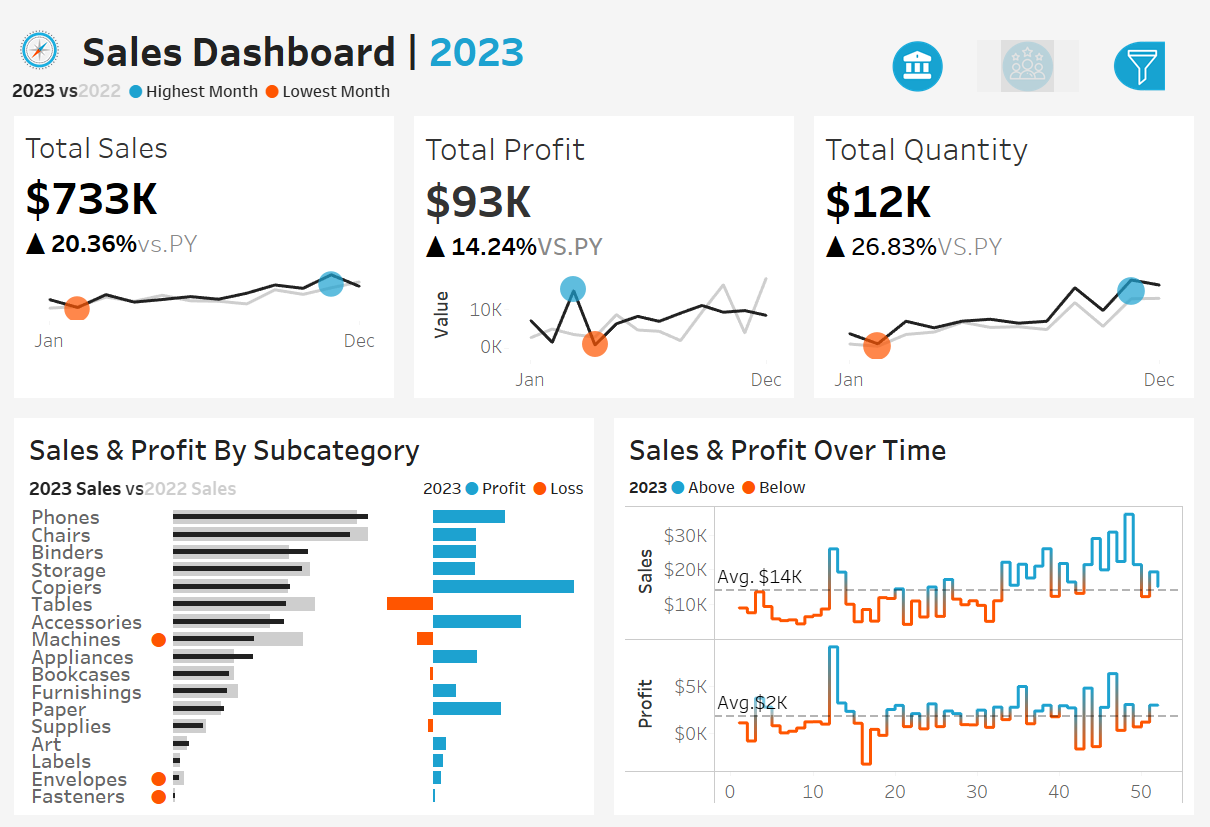

The page's visual inventory and layout, read from the dashboard file:
{"tool":"tableau","page":{"name":"Sales Dashboard","canvas":[1200,800],"ordinal":0},"visuals":[{"type":"image","param":"Image/Icon - Logo.png","box":[0,0,70,49]},{"type":"text","box":[70,0,723,49]},{"type":"text","box":[877,4,318,196]},{"type":"dashboard-object","box":[858,11,111,60]},{"type":"dashboard-object","box":[969,11,110,60]},{"type":"dashboard-object","box":[1079,11,110,60]},{"type":"worksheet","title":"Legend KPI","mark":"Automatic","box":[0,49,1200,32]},{"type":"worksheet","title":"KPI Sales","mark":"Automatic","rows":["Calculation_881861128941785092"],"cols":["Order Date"],"box":[0,81,400,302]},{"type":"worksheet","title":"KPI Total Profit","mark":"Automatic","rows":["Min/Max Quantity (copy)_881861129129865237"],"cols":["Order Date"],"box":[400,81,400,302]},{"type":"worksheet","title":"KPI Total Quantity","mark":"Automatic","rows":["Min/Max Sales (copy)_881861129114382347"],"cols":["Order Date"],"box":[800,81,400,302]},{"type":"parameter","param":"[Parameters].[Parameter 1]","box":[877,200,318,60]},{"type":"blank","box":[877,260,318,32]},{"type":"text","box":[877,292,318,33]},{"type":"filter","title":"KPI Sales","param":"[federated.0d5tz0m07tn7vk140b9pl1s5l0tu].[none:Category:nk]","box":[877,325,318,70]},{"type":"filter","title":"KPI Sales","param":"[federated.0d5tz0m07tn7vk140b9pl1s5l0tu].[none:Sub-Category:nk]","box":[877,395,318,70]},{"type":"text","box":[17,400,566,47]},{"type":"text","box":[617,400,566,47]},{"type":"worksheet","title":"Legend Subcategory","mark":"Automatic","box":[17,447,394,32]},{"type":"text","box":[411,447,172,32]},{"type":"text","box":[617,447,566,30]},{"type":"text","box":[877,465,318,33]},{"type":"worksheet","title":"Weekly Trends","mark":"Automatic","rows":["Calculation_881861128931147776","CY Quantity (copy)_881861129129340946"],"cols":["Order Date"],"box":[617,477,566,306]},{"type":"worksheet","title":"SubCategory Comparison","mark":"Bar","rows":["Sub-Category","Calculation_881861129156116506"],"cols":["CY Sales (copy)_881861128932089857","Calculation_881861128931147776","CY Quantity (copy)_881861129129340946"],"box":[17,479,566,304]},{"type":"filter","title":"KPI Sales","param":"[federated.0d5tz0m07tn7vk140b9pl1s5l0tu].[none:Region:nk]","box":[877,498,318,70]},{"type":"filter","title":"KPI Sales","param":"[federated.0d5tz0m07tn7vk140b9pl1s5l0tu].[none:State:nk]","box":[877,568,318,70]},{"type":"filter","title":"KPI Sales","param":"[federated.0d5tz0m07tn7vk140b9pl1s5l0tu].[none:City:nk]","box":[877,638,318,70]}]}

Visuals, with their boxes in screenshot pixels (x1, y1, x2, y2), scaled from the page's 1200x800 canvas onto the 1210x827 screenshot:
image: box(0, 0, 71, 51)
text: box(71, 0, 800, 51)
text: box(884, 4, 1205, 207)
dashboard-object: box(865, 11, 977, 73)
dashboard-object: box(977, 11, 1088, 73)
dashboard-object: box(1088, 11, 1199, 73)
"Legend KPI" worksheet: box(0, 51, 1209, 84)
"KPI Sales" worksheet: box(0, 84, 403, 396)
"KPI Total Profit" worksheet: box(403, 84, 807, 396)
"KPI Total Quantity" worksheet: box(807, 84, 1209, 396)
parameter: box(884, 207, 1205, 269)
blank: box(884, 269, 1205, 302)
text: box(884, 302, 1205, 336)
"KPI Sales" filter: box(884, 336, 1205, 408)
"KPI Sales" filter: box(884, 408, 1205, 481)
text: box(17, 414, 588, 462)
text: box(622, 414, 1193, 462)
"Legend Subcategory" worksheet: box(17, 462, 414, 495)
text: box(414, 462, 588, 495)
text: box(622, 462, 1193, 493)
text: box(884, 481, 1205, 515)
"Weekly Trends" worksheet: box(622, 493, 1193, 809)
"SubCategory Comparison" worksheet (Bar marks): box(17, 495, 588, 809)
"KPI Sales" filter: box(884, 515, 1205, 587)
"KPI Sales" filter: box(884, 587, 1205, 660)
"KPI Sales" filter: box(884, 660, 1205, 732)
